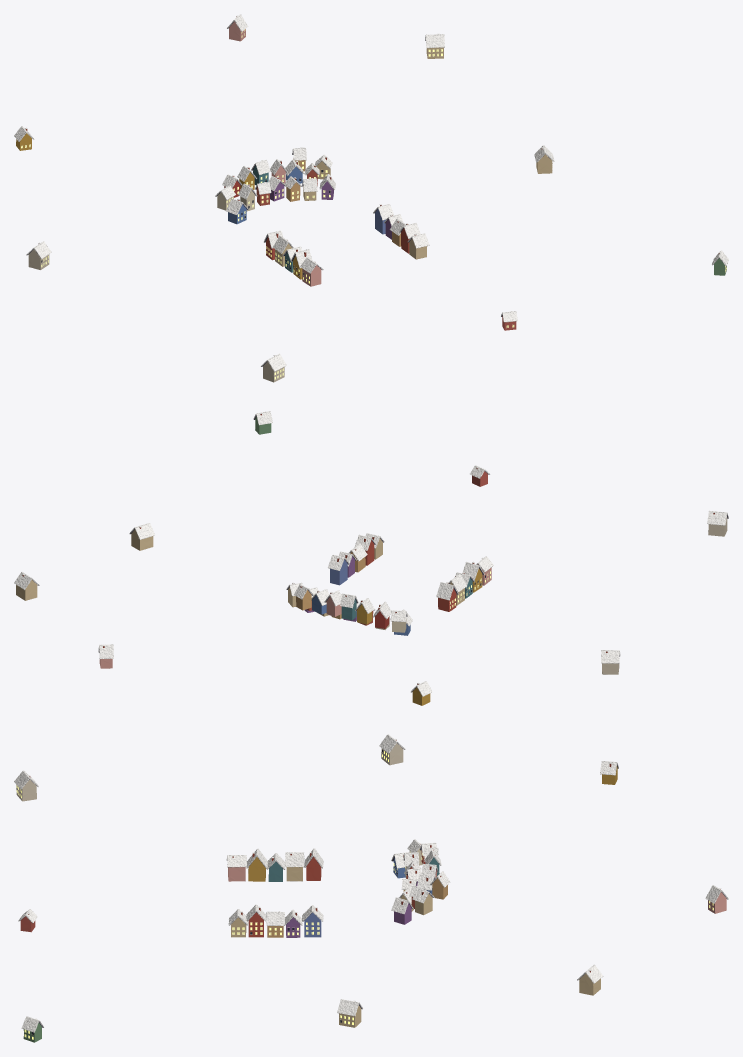
File: houses_clay.glb
3 renders of one model, top to bottom at view 1: azimuth 30°, elevation 25°; view 2: azimuth 150°, elevation 25°; view 3: azimuth 270°, elevation 25°, orthographic. The views are drawn at different scales.
Parts seen in each view (by area): view 1: Snow.002; view 2: Snow.002; view 3: Snow.002.
Boxes of the visible parts, <box> form: Snow.002: <box>14,14,728,371</box>; Snow.002: <box>14,411,728,696</box>; Snow.002: <box>14,734,728,1037</box>.
Bounding box in the file's own units: 195 × 22.69 × 212.
